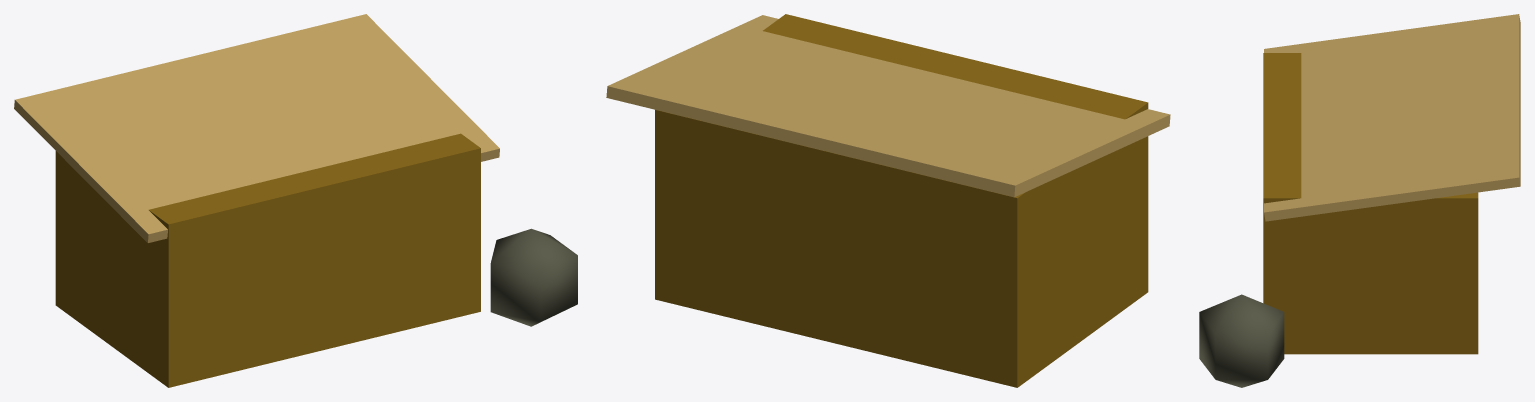
Rendered from workshop_t1.glb.
The picture shows the model from 3 angles, left to right: view 1: azimuth 30°, elevation 25°; view 2: azimuth 150°, elevation 25°; view 3: azimuth 270°, elevation 25°; orthographic projection. The views are drawn at different scales.
Parts seen in each view (by area): view 1: building-workshop; view 2: building-workshop; view 3: building-workshop.
Boxes of the visible parts, left/top/right/bottom form: building-workshop: left=14, top=14, right=577, bottom=387; building-workshop: left=606, top=14, right=1170, bottom=387; building-workshop: left=1199, top=14, right=1520, bottom=387.
Size of the model in its own units: 0.1315 by 0.0657 by 0.095.
